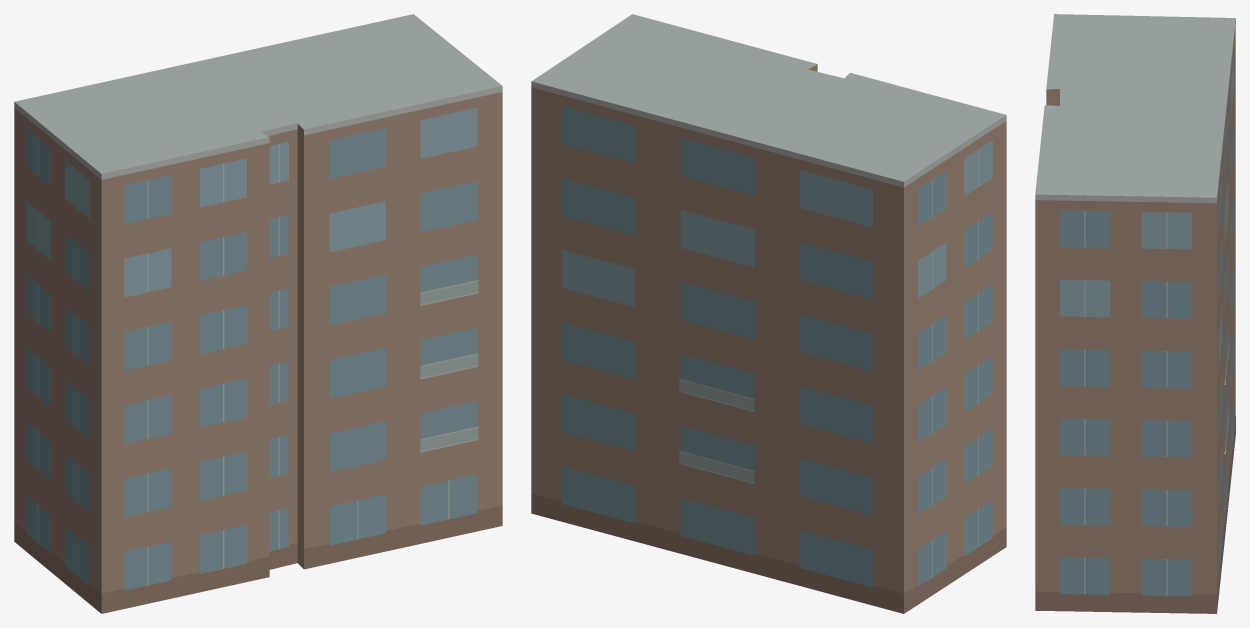
The model's file is survey-upis-32963303.glb.
The picture shows the model from 3 angles, left to right: view 1: azimuth 30°, elevation 25°; view 2: azimuth 150°, elevation 25°; view 3: azimuth 270°, elevation 25°; orthographic projection. The views are drawn at different scales.
Visible parts, largest first — view 1: survey-upis-32963303.tmp; view 2: survey-upis-32963303.tmp; view 3: survey-upis-32963303.tmp.
Boxes of the visible parts, <box> form: survey-upis-32963303.tmp: <box>14,14,502,613</box>; survey-upis-32963303.tmp: <box>531,14,1006,613</box>; survey-upis-32963303.tmp: <box>1035,14,1235,613</box>.
Bounding box in the file's own units: 17.34 × 18.3 × 8.01.
